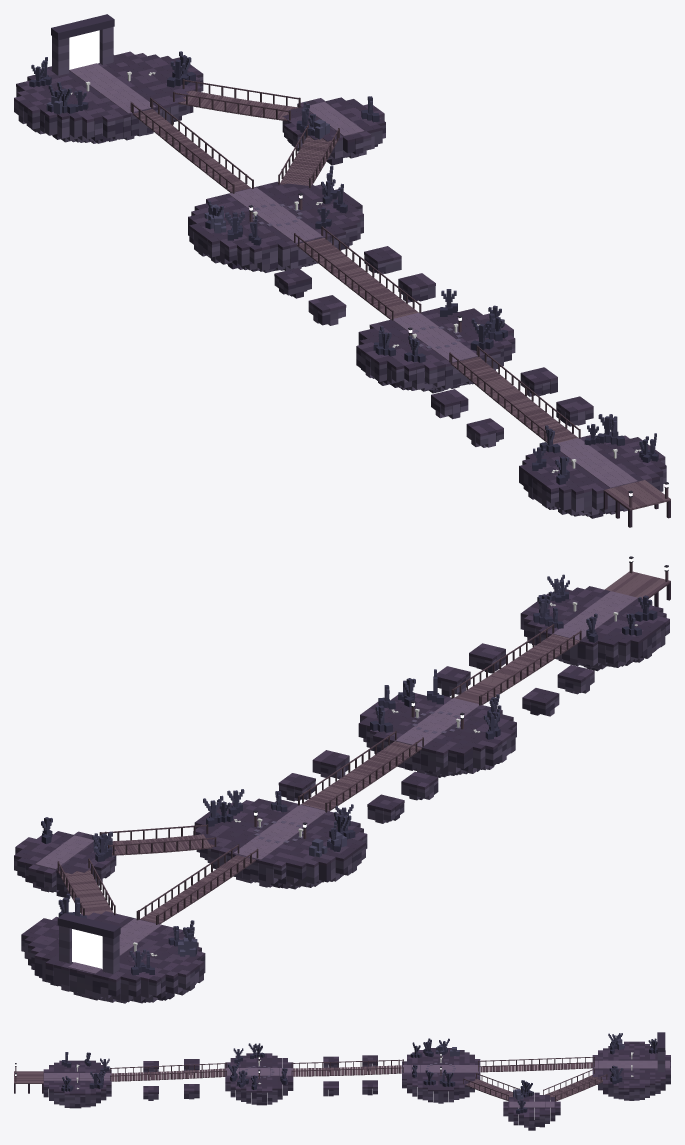
File: sky_route_polluted.glb
3 views of the same model, one above another, from view 1: azimuth 30°, elevation 25°; view 2: azimuth 150°, elevation 25°; view 3: azimuth 270°, elevation 25° (orthographic). The views are drawn at different scales.
Visible parts, largest first — view 1: sky_route_blocks; view 2: sky_route_blocks; view 3: sky_route_blocks.
Boxes of the visible parts, box(x1,y1,x2,y2) form: sky_route_blocks: box(14, 14, 670, 527); sky_route_blocks: box(14, 556, 670, 1003); sky_route_blocks: box(14, 1032, 670, 1130).
Size of the model in its own units: 38.39 by 16.2 by 145.
